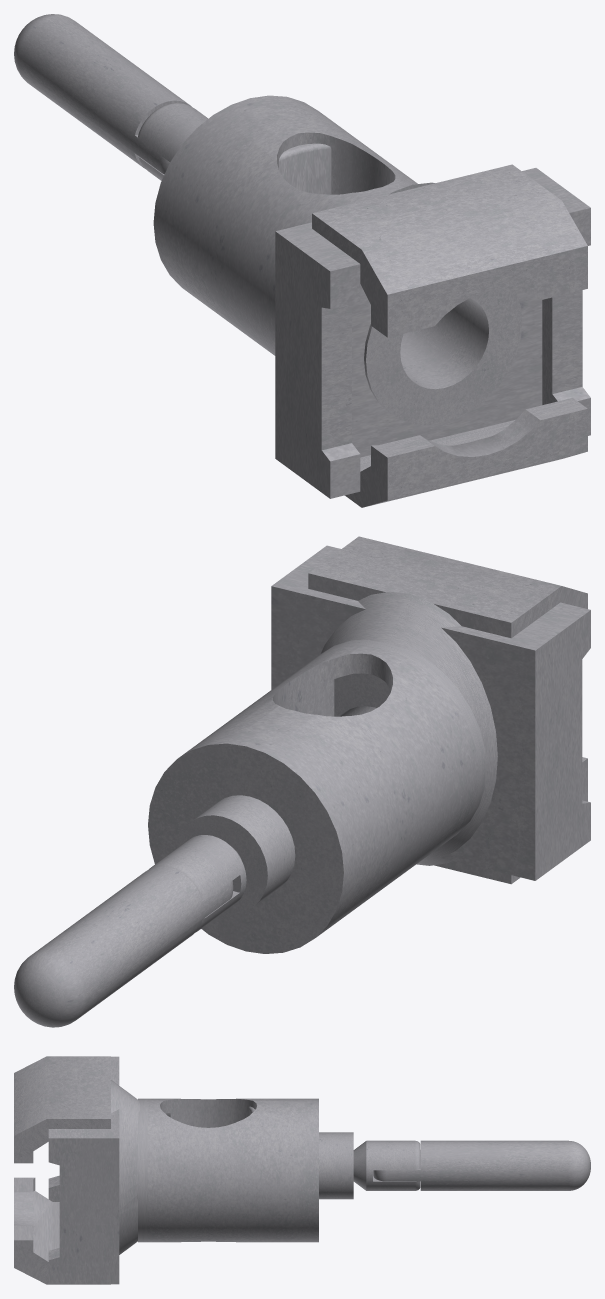
Rendered from light_radial_clamp.fbx.
3 renders of one model, top to bottom at view 1: azimuth 30°, elevation 25°; view 2: azimuth 150°, elevation 25°; view 3: azimuth 270°, elevation 25°, orthographic. The views are drawn at different scales.
Visible parts, largest first — view 1: clamp_outer, mounting, clamp_inner, inside_cylinder, hinge_arm, bracket, clamp; view 2: mounting, clamp_inner, hinge_arm, clamp_outer, clamp_connector, connector, bracket, ring_cap, inside_cylinder; view 3: mounting, clamp_outer, clamp_inner, hinge_arm, clamp_connector, bracket, connector, ring_cap.
Boxes of the visible parts, x1,y1,x2,y2 form: clamp_outer: (312, 164, 587, 507); mounting: (153, 95, 417, 355); clamp_inner: (275, 168, 590, 498); inside_cylinder: (364, 289, 522, 425); hinge_arm: (14, 14, 191, 174); bracket: (138, 103, 208, 180); clamp: (279, 143, 331, 194); mounting: (148, 644, 478, 953); clamp_inner: (271, 545, 590, 880); hinge_arm: (14, 866, 233, 1027); clamp_outer: (308, 536, 587, 884); clamp_connector: (321, 591, 497, 865); connector: (177, 795, 295, 913); bracket: (149, 835, 246, 932); ring_cap: (313, 639, 486, 838); inside_cylinder: (334, 673, 390, 716); mounting: (147, 1098, 318, 1242); clamp_outer: (14, 1056, 110, 1284); clamp_inner: (48, 1056, 119, 1284); hinge_arm: (373, 1140, 590, 1190); clamp_connector: (111, 1080, 139, 1254); bracket: (353, 1140, 420, 1190); connector: (319, 1132, 353, 1199); ring_cap: (138, 1098, 147, 1242).
Size of the model in its own units: 0.052 by 0.0508 by 0.1552.
1 material, 1 textured.
